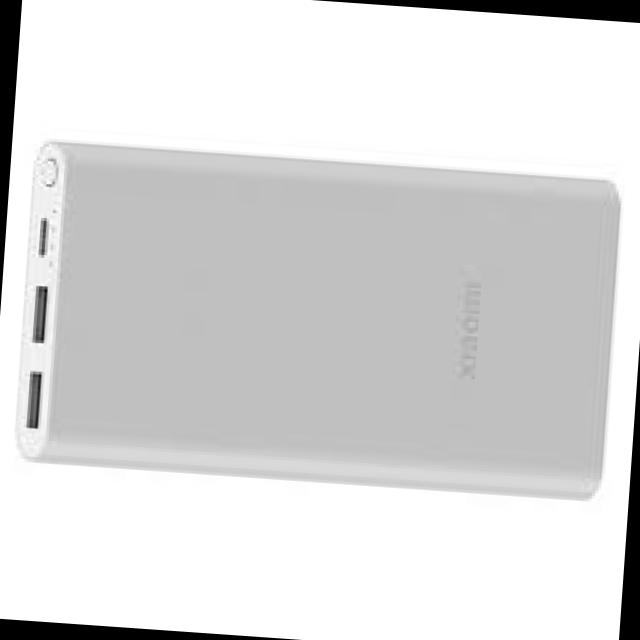portable-charger: (6, 130, 632, 507)
